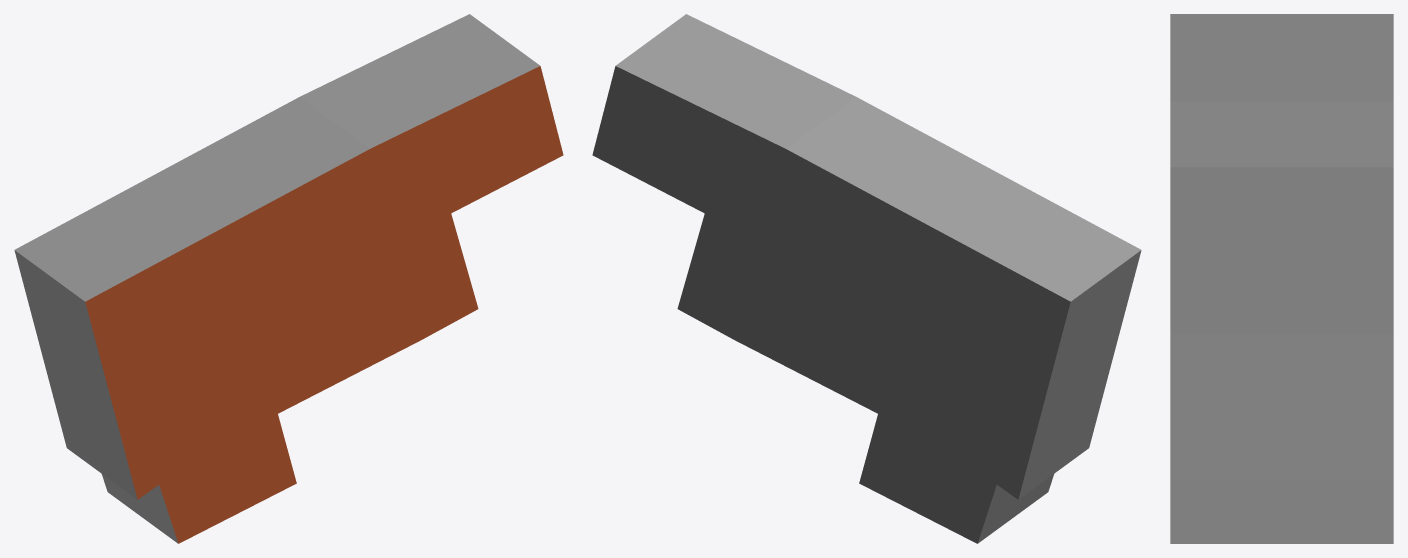
Rendered from construction_2947_assumed_A_Casa_h6m.obj.
3 views of the same model, side by side, from view 1: azimuth 30°, elevation 25°; view 2: azimuth 150°, elevation 25°; view 3: azimuth 270°, elevation 25° (orthographic). The views are drawn at different scales.
Parts seen in each view (by area): view 1: construction_2947_assumed_A_Casa; view 2: construction_2947_assumed_A_Casa; view 3: construction_2947_assumed_A_Casa.
Boxes of the visible parts, x1,y1,x2,y2 form: construction_2947_assumed_A_Casa: (14,14,563,543); construction_2947_assumed_A_Casa: (592,14,1141,543); construction_2947_assumed_A_Casa: (1170,14,1393,543).
Bounding box in the file's own units: 23.39 × 18.21 × 6.
